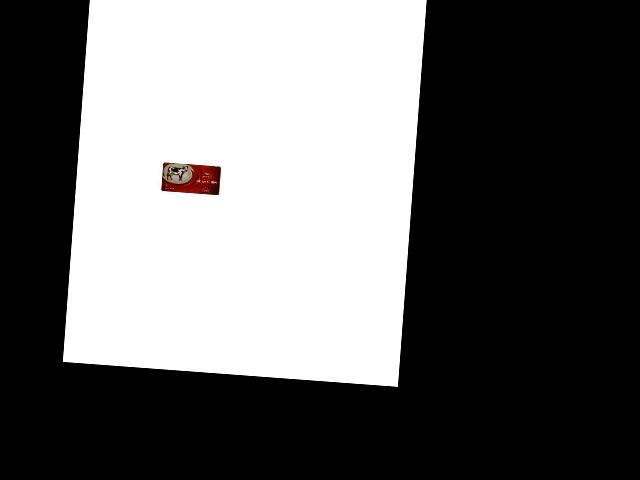chocolate: (161, 162, 222, 196)
